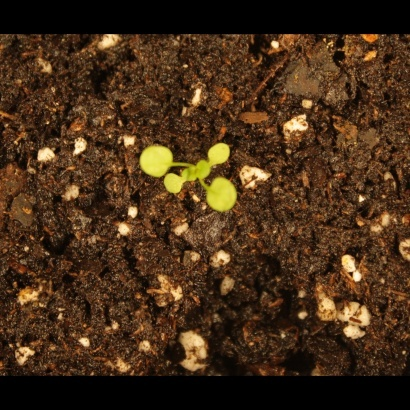leaf: (203, 175, 242, 215), (139, 143, 179, 178), (205, 140, 237, 168), (163, 174, 186, 197), (188, 158, 211, 181)
